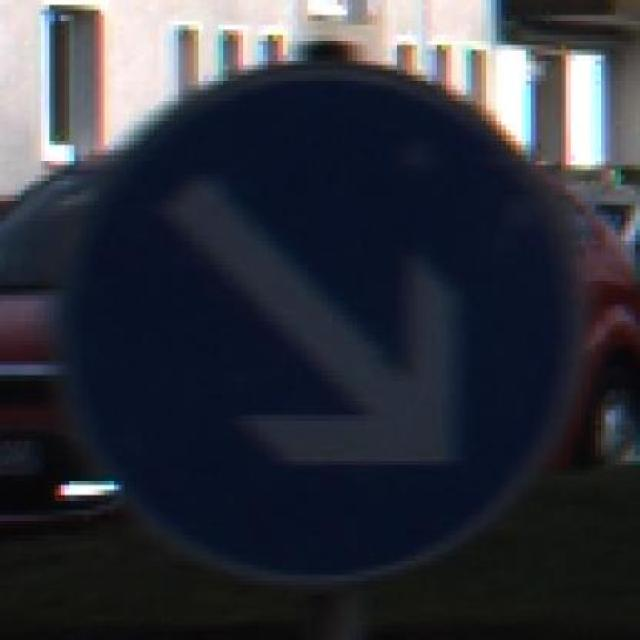Keep-Right: (59, 55, 586, 580)
